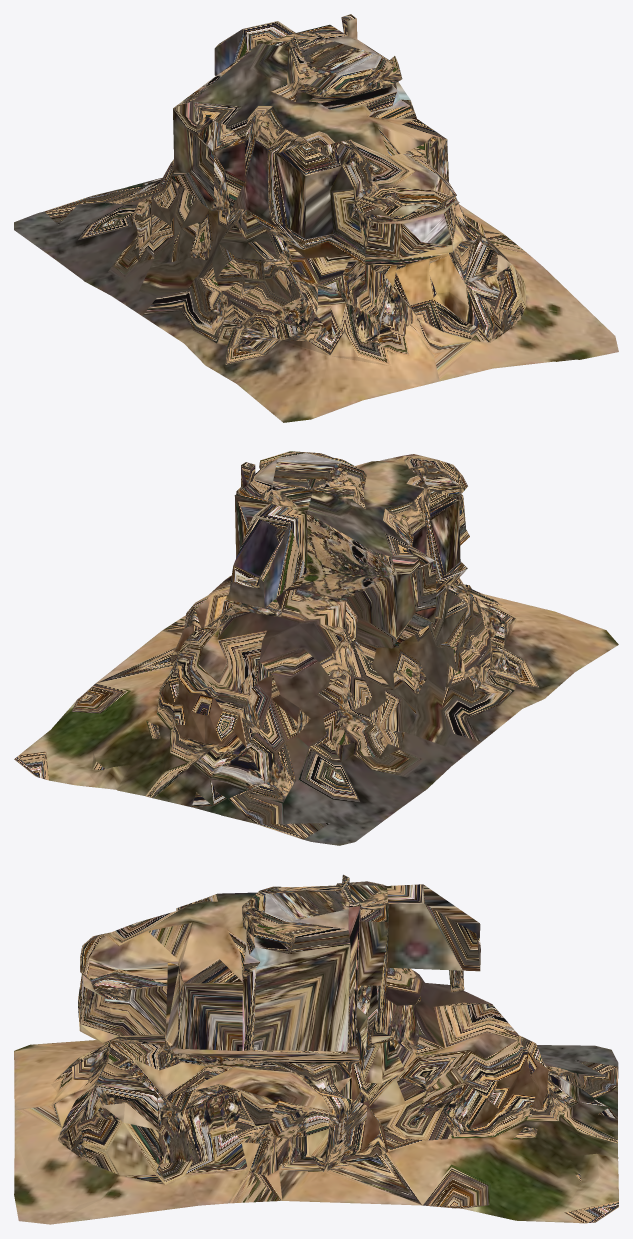
Rendered from coastal-bunker.lod1.glb.
3 renders of one model, top to bottom at view 1: azimuth 30°, elevation 25°; view 2: azimuth 150°, elevation 25°; view 3: azimuth 270°, elevation 25°, orthographic. The views are drawn at different scales.
Parts seen in each view (by area): view 1: Object_2; view 2: Object_2; view 3: Object_2.
Part boxes in pixels (x1,y1,x2,y2): Object_2: [14, 14, 618, 422]; Object_2: [14, 451, 618, 845]; Object_2: [14, 874, 618, 1224].
Size of the model in its own units: 15.28 by 10.42 by 21.99.
1 material, 1 textured.
